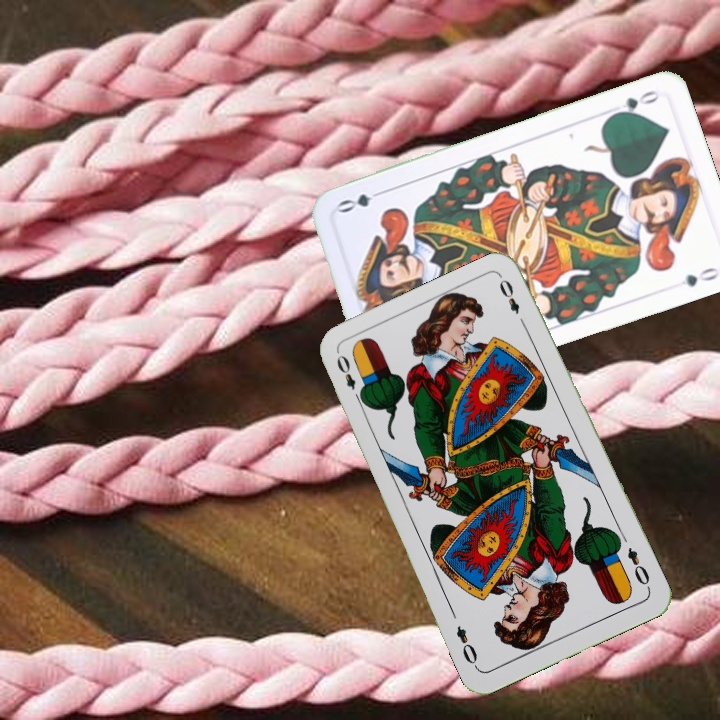EO: (332, 350, 366, 406), (623, 543, 653, 592)
GO: (607, 86, 662, 119)
